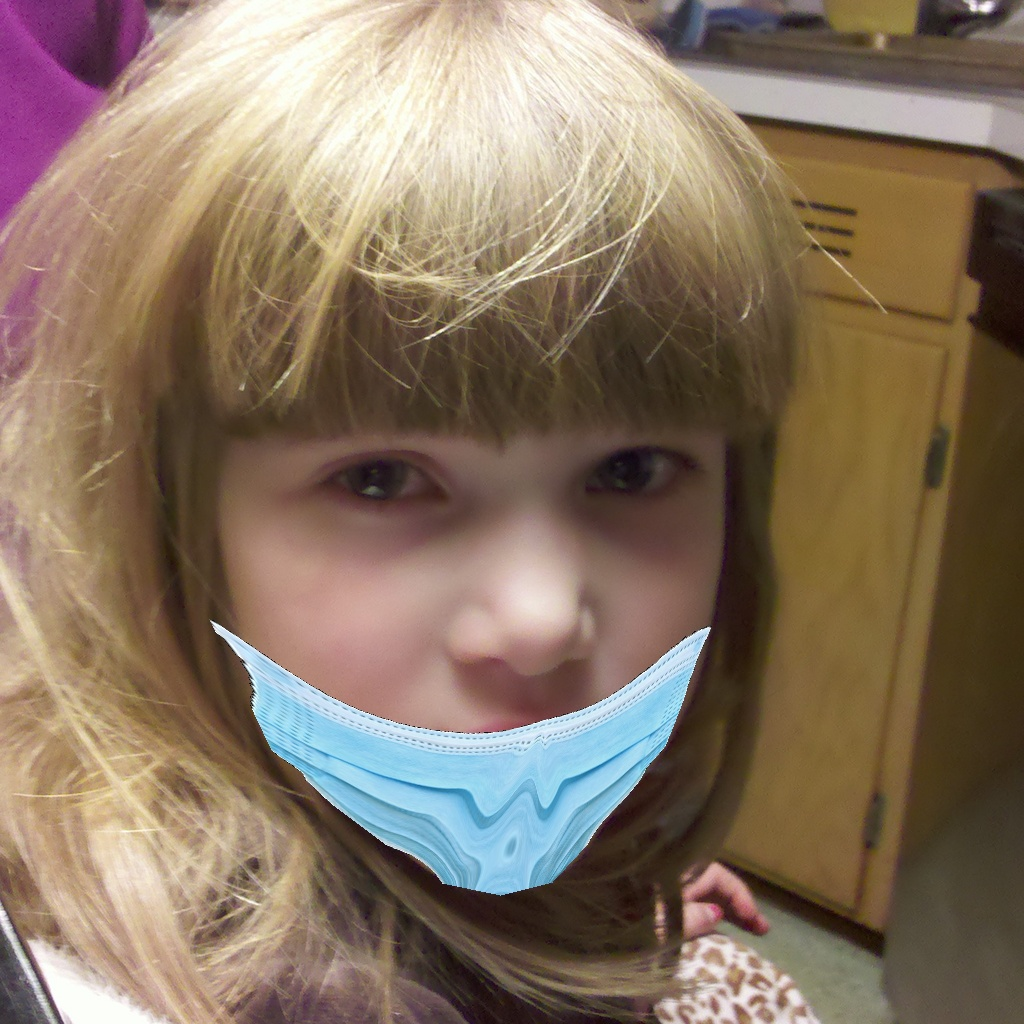mask_weared_incorrect: (158, 365, 768, 926)
